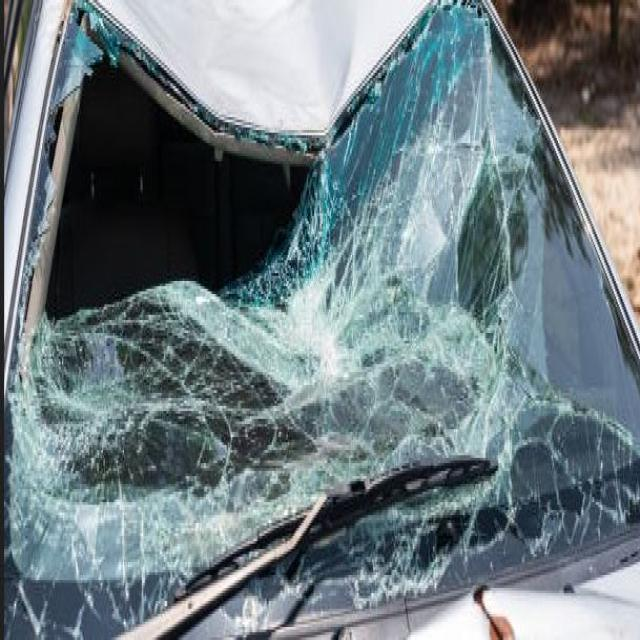electronic: (8, 0, 539, 580)
